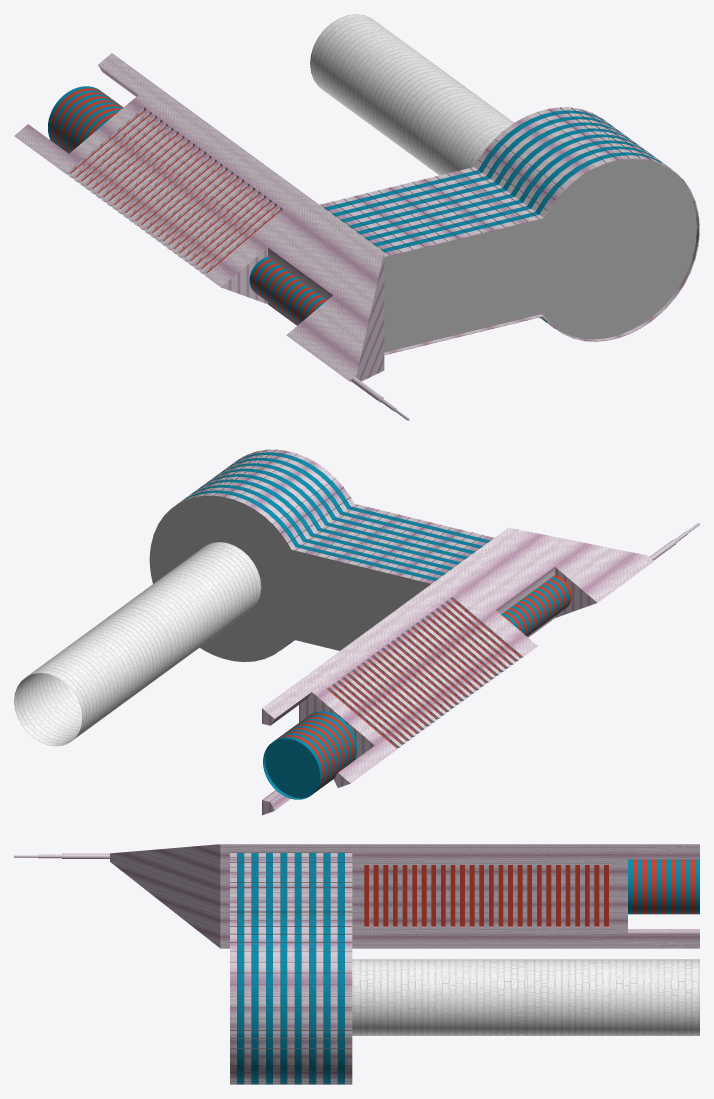
File: Sky020.obj
3 renders of one model, top to bottom at view 1: azimuth 30°, elevation 25°; view 2: azimuth 150°, elevation 25°; view 3: azimuth 270°, elevation 25°, orthographic. The views are drawn at different scales.
Parts seen in each view (by area): view 1: wall_01, slab_01, wall_2_01, wall_1_01, glass_3_01, glass2_01, glass1_01, frame_1_01, wall_1_02, wall_1_03; view 2: wall_01, wall_2_01, slab_01, wall_1_01, glass_3_01, glass2_01, glass1_01, frame_1_01; view 3: wall_01, wall_2_01, wall_1_01, glass_3_01, glass2_01, frame_1_01, glass1_01.
Boxes of the visible parts, x1,y1,x2,y2 form: wall_01: (14,53,409,420); slab_01: (384,107,696,352); wall_2_01: (310,14,513,175); wall_1_01: (320,107,698,341); glass_3_01: (324,110,664,321); glass2_01: (50,88,327,323); glass1_01: (48,86,325,324); frame_1_01: (320,107,699,353); wall_1_02: (384,159,698,354); wall_1_03: (384,158,699,355); wall_01: (262,523,699,815); wall_2_01: (14,542,261,746); slab_01: (149,451,430,661); wall_1_01: (153,449,493,662); glass_3_01: (174,452,490,644); glass2_01: (277,575,571,791); glass1_01: (263,577,568,799); frame_1_01: (149,449,493,661); wall_01: (14,844,699,948); wall_2_01: (352,959,699,1035); wall_1_01: (230,853,352,1084); glass_3_01: (237,853,344,1084); glass2_01: (364,859,695,926); frame_1_01: (230,852,352,1084); glass1_01: (628,859,699,914).
Bounding box in the file's own units: 3557 × 1452 × 5720.
Materials: 6 (2 with a texture image).
